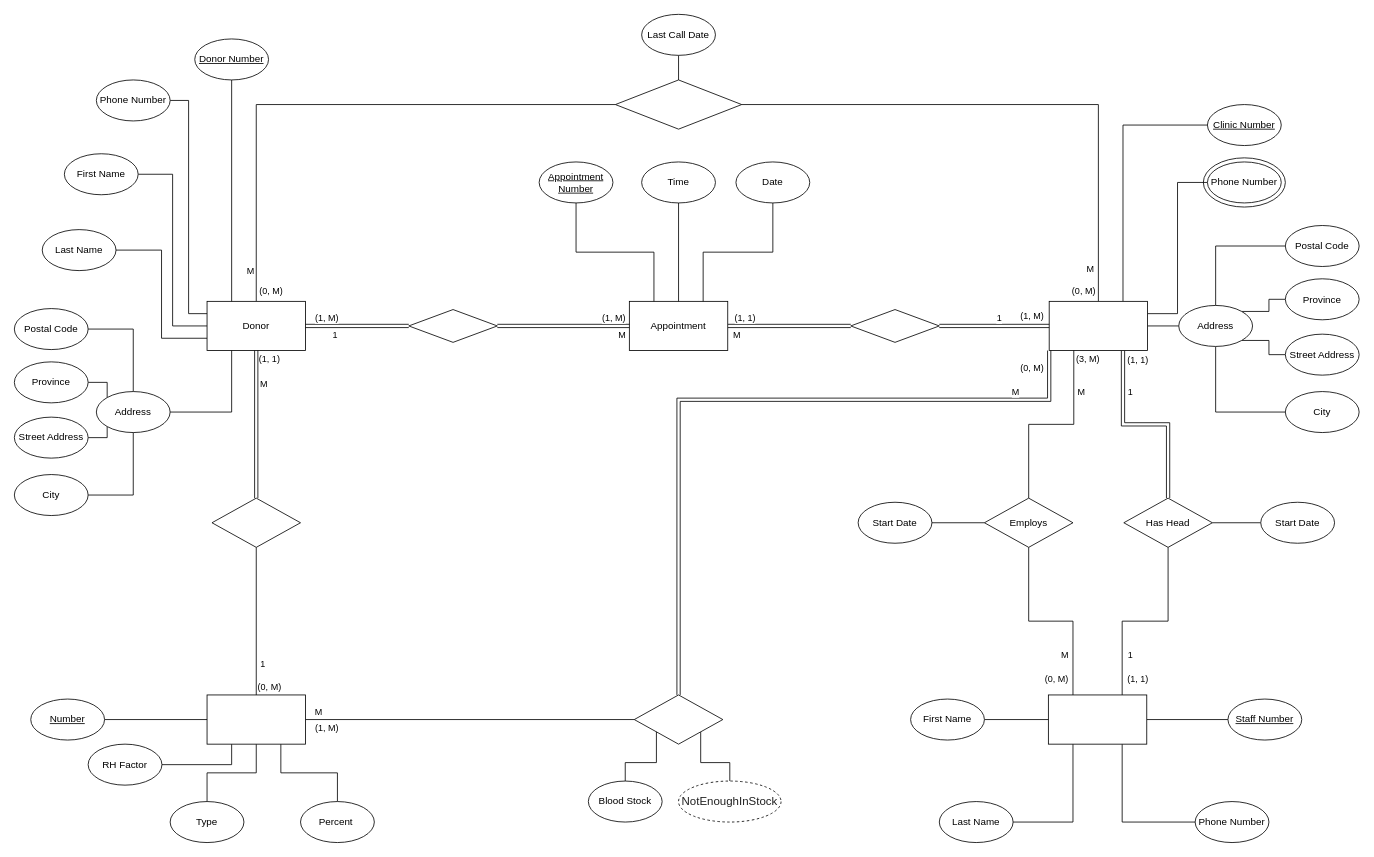
Some shapes in this 1374 by 857 pixel diagram are drawn without their labels. The shapes that lost their labels are listed below. From the top down, each one's box as (x1, y1, x2, y2) in pixels, then its label:
(615, 79, 742, 129): Receives Call from
(408, 309, 497, 342): Has/Had
(850, 309, 939, 342): at
(1048, 301, 1148, 351): Clinic
(211, 497, 301, 547): Has a type of
(206, 694, 305, 744): Blood
(633, 694, 723, 744): Stock at
(1048, 694, 1147, 744): Staff
